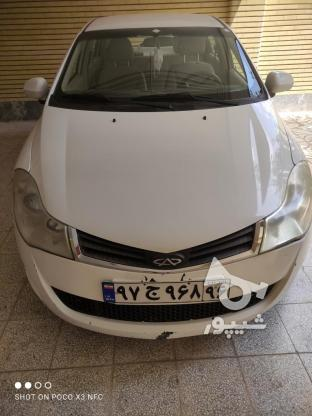car: (102, 277, 228, 304)
